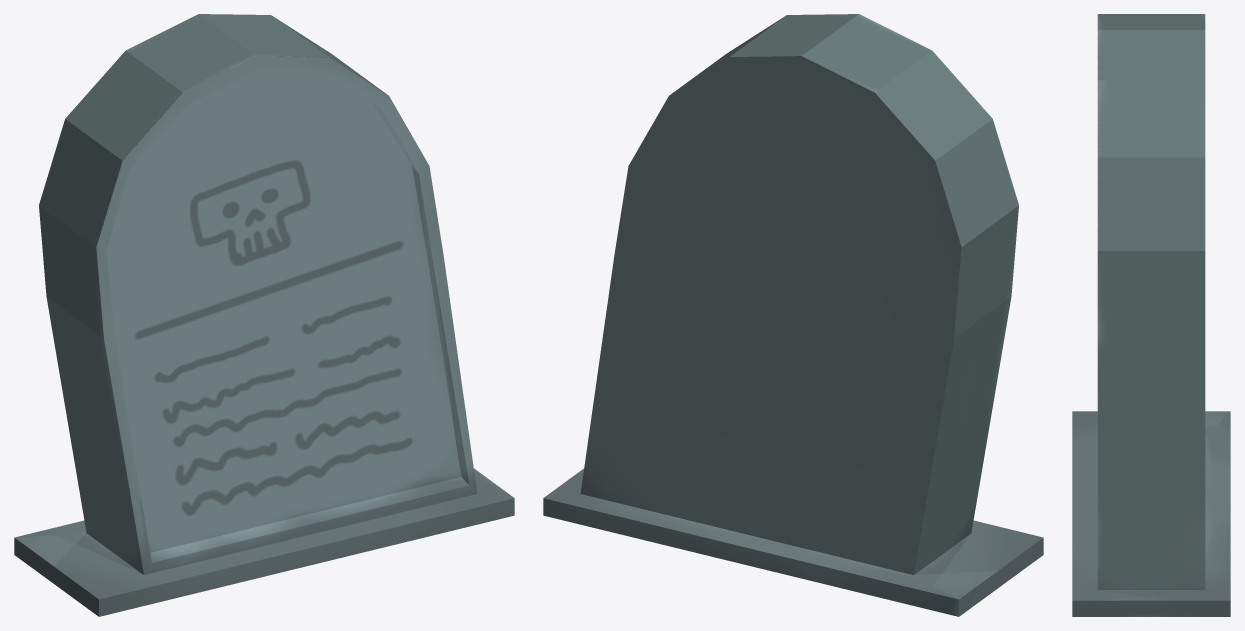
Rendered from tumba.fbx.
The picture shows the model from 3 angles, left to right: view 1: azimuth 30°, elevation 25°; view 2: azimuth 150°, elevation 25°; view 3: azimuth 270°, elevation 25°; orthographic projection. The views are drawn at different scales.
Visible parts, largest first — view 1: tumba; view 2: tumba; view 3: tumba.
Boxes of the visible parts, x1=… form: tumba: x1=14, y1=14, x2=514, y2=616; tumba: x1=543, y1=14, x2=1043, y2=616; tumba: x1=1072, y1=14, x2=1230, y2=616.
Size of the model in its own units: 236 by 276 by 83.22.
Materials: 1 (1 with a texture image).
